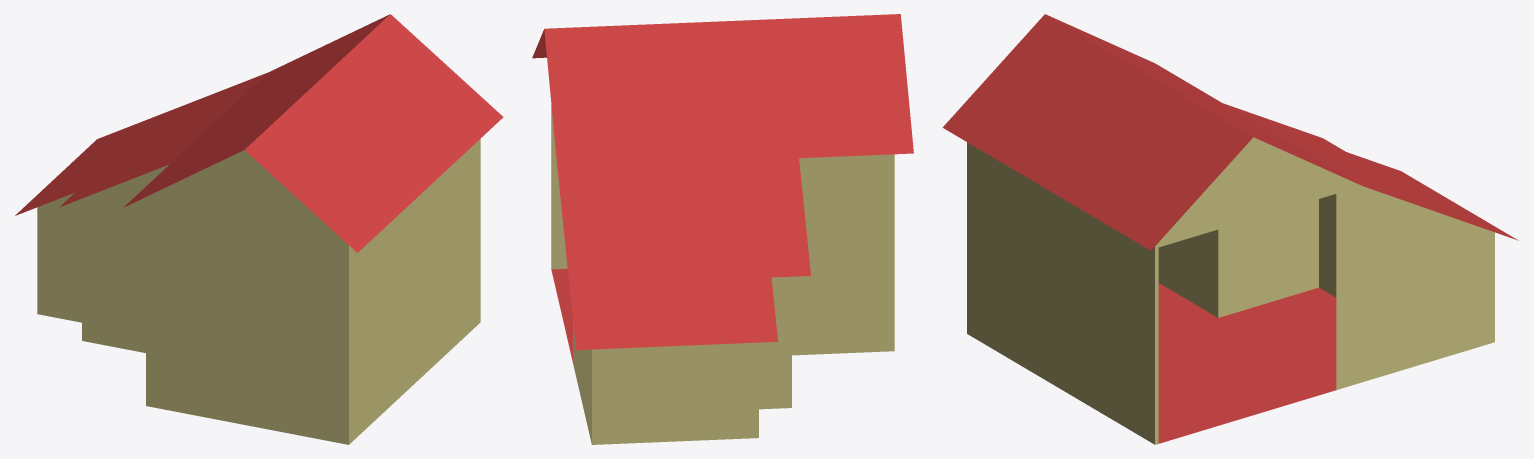
3 renders of one model, left to right at view 1: azimuth 30°, elevation 25°; view 2: azimuth 150°, elevation 25°; view 3: azimuth 270°, elevation 25°, orthographic.
Size of the model in its own units: 18.84 by 24.5 by 13.45.
